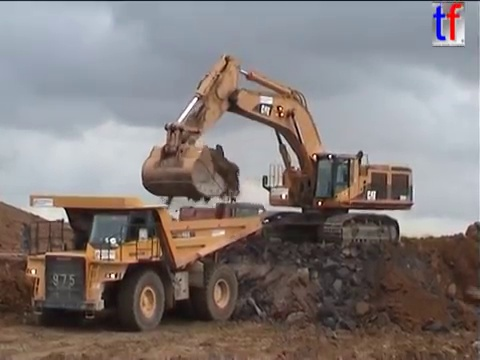excavator: (137, 51, 416, 252)
truck: (18, 192, 265, 332), (176, 201, 271, 244)
